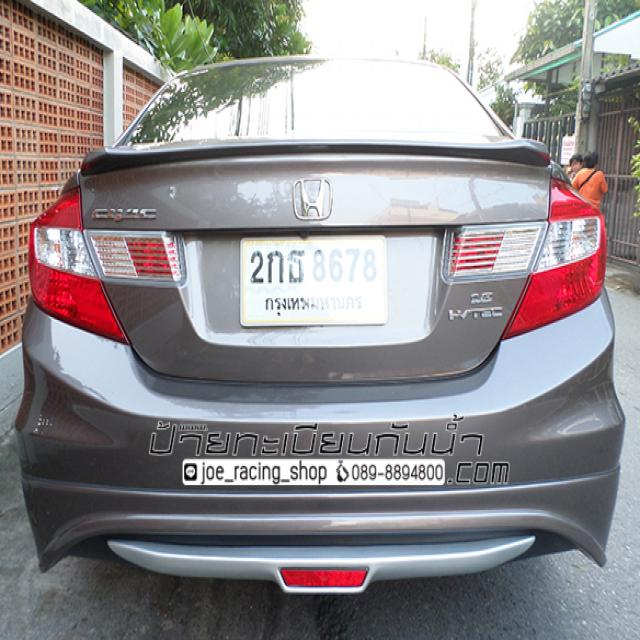license_plate: (237, 230, 389, 330)
